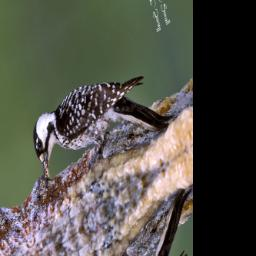Woodpecker: (28, 30, 173, 216)
